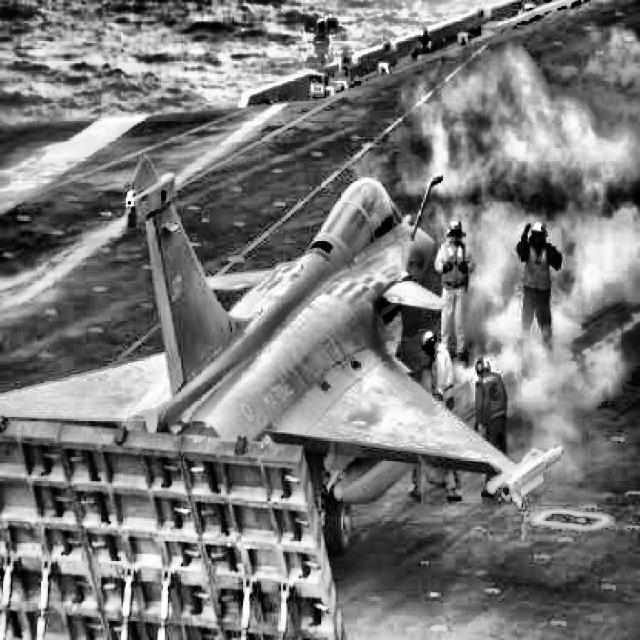Rafale: (0, 152, 565, 554)
